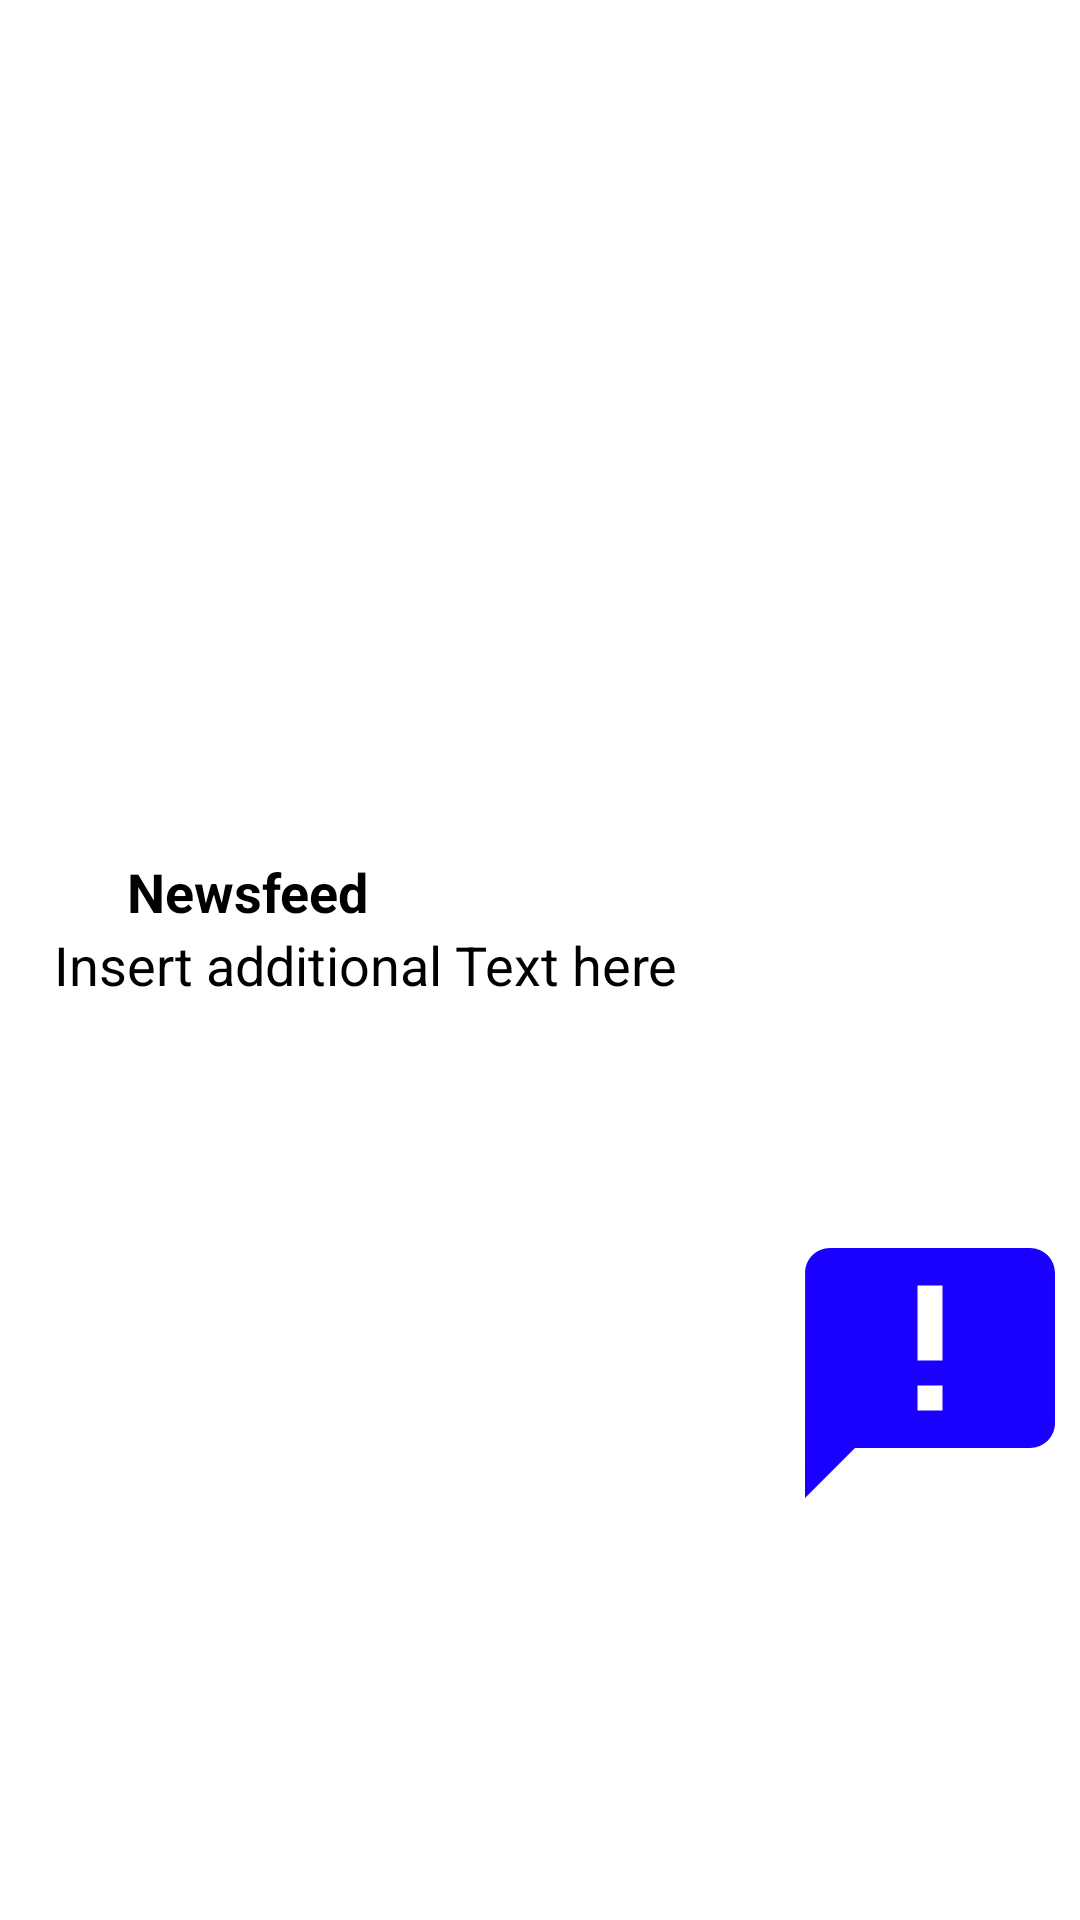

Named icons in this screenshot (1080w x 1920h) and their centers, [x,y]:
announcement: [930,1373]
